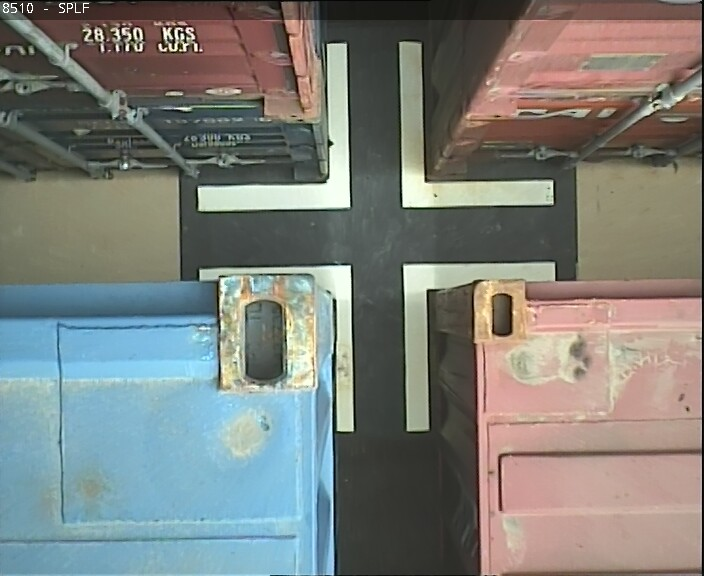groundmarker_1: (192, 42, 555, 213), (200, 266, 561, 431)
